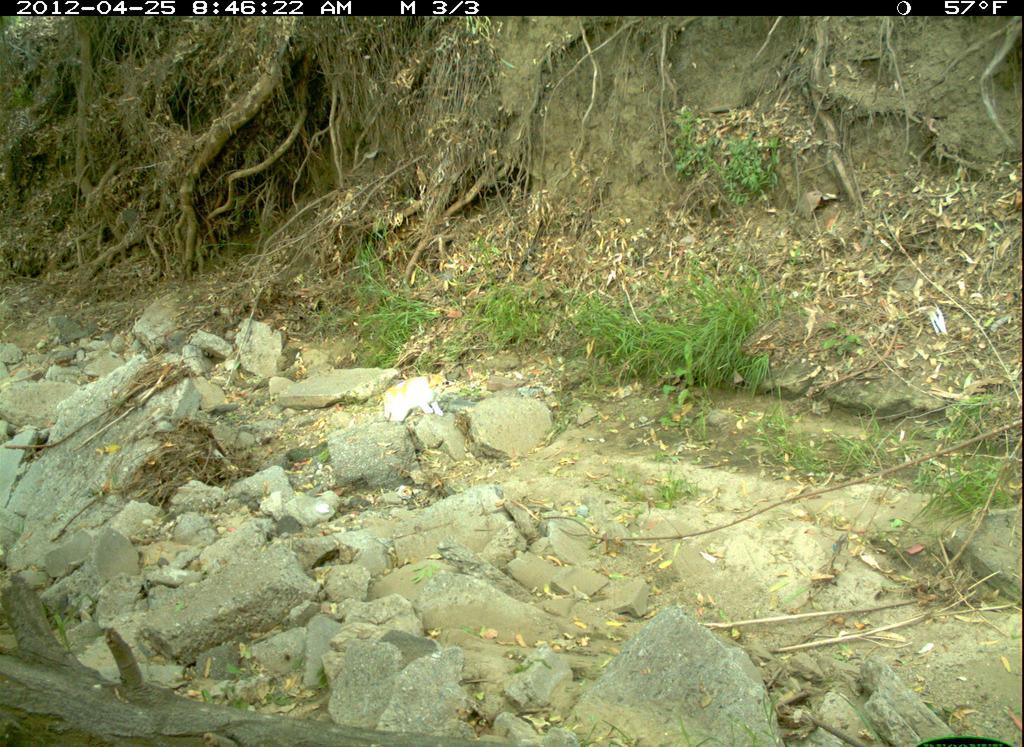cat: (369, 362, 455, 433)
